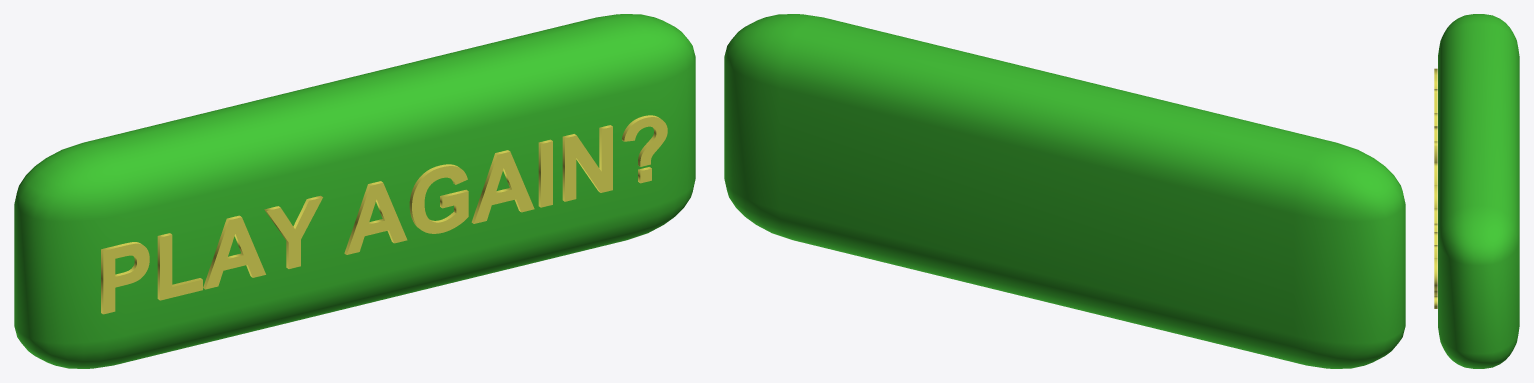
Rendered from restart-button.glb.
The picture shows the model from 3 angles, left to right: view 1: azimuth 30°, elevation 25°; view 2: azimuth 150°, elevation 25°; view 3: azimuth 270°, elevation 25°; orthographic projection. The views are drawn at different scales.
Parts seen in each view (by area): view 1: Cube, Text; view 2: Cube; view 3: Cube, Text.
Part boxes in pixels (box(x1,y1,x2,y2)): Cube: box(14, 14, 695, 368); Text: box(101, 115, 667, 314); Cube: box(724, 14, 1405, 368); Cube: box(1438, 14, 1519, 368); Text: box(1434, 68, 1437, 308).
Bounding box in the file's own units: 6.6 × 2 × 1.
